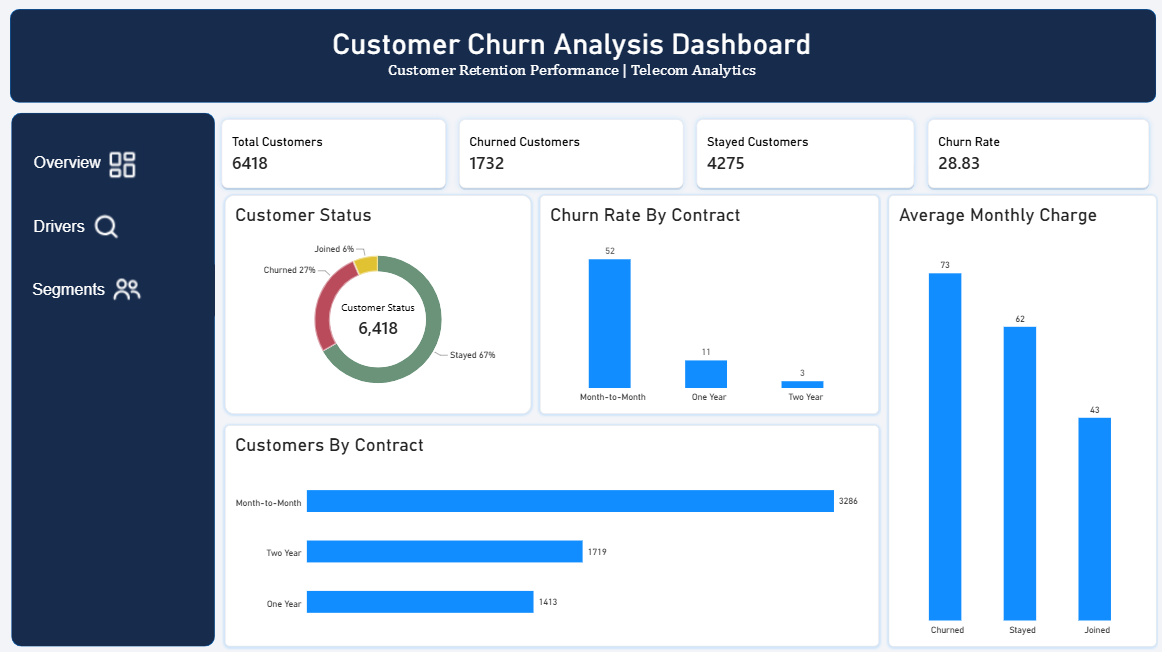

The dashboard page shown, as its layout file describes it:
{"tool":"powerbi","page":{"name":"Overview","canvas":[1920,1080],"ordinal":0},"visuals":[{"type":"cardVisual","fields":{"Data":["customer_churn.Total Customers"]},"box":[354,187.3,391.1,135.8],"z":0},{"type":"cardVisual","fields":{"Data":["customer_churn.Churned Customers"]},"box":[745.1,187.3,391.1,135.8],"z":1000},{"type":"cardVisual","fields":{"Data":["customer_churn.Stayed Customers"]},"box":[1136.2,187.3,380.8,135.8],"z":2000},{"type":"cardVisual","fields":{"Data":["customer_churn.Churn Rate"]},"box":[1517,187.3,387,135.8],"z":3000},{"type":"donutChart","title":"Customer Status","fields":{"Category":["customer_churn.Customer_Status"],"Y":["Count(customer_churn.Customer_ID)"]},"box":[370.5,323.2,504.3,360.2],"z":4000},{"type":"clusteredColumnChart","title":"Churn Rate By Contract","fields":{"Category":["customer_churn.Contract"],"Y":["customer_churn.Churn Rate"]},"box":[889.2,323.2,557.8,360.2],"z":5000},{"type":"clusteredBarChart","title":"Customers By Contract","fields":{"Category":["customer_churn.Contract"],"Y":["CountNonNull(customer_churn.Customer_ID)"]},"box":[370.5,701.9,1076.5,364.3],"z":6000},{"type":"clusteredColumnChart","title":"Average Monthly Charge","fields":{"Category":["customer_churn.Customer_Status"],"Y":["Avg(customer_churn.Monthly_Charge)"]},"box":[1463.5,323.2,440.5,743.1],"z":7000},{"type":"shape","box":[16.5,16.5,1887.5,154.4],"z":8000},{"type":"shape","box":[18.5,187.3,335.5,878.9],"z":9000},{"type":"textbox","box":[43.2,45.3,1796.9,100.9],"z":10000},{"type":"actionButton","box":[43.2,218.2,292.3,105],"z":11000},{"type":"actionButton","box":[41.2,434.3,312.9,90.6],"z":12000},{"type":"actionButton","box":[43.2,323.2,292.3,105],"z":13000}]}

Visuals, with their boxes in screenshot pixels (x1, y1, x2, y2), scaled from the page's 1920x1080 canvas onto the 1162x652 screenshot:
cardVisual - customer_churn.Total Customers: 214 113 451 195
cardVisual - customer_churn.Churned Customers: 451 113 688 195
cardVisual - customer_churn.Stayed Customers: 688 113 918 195
cardVisual - customer_churn.Churn Rate: 918 113 1152 195
"Customer Status" donutChart: 224 195 529 413
"Churn Rate By Contract" clusteredColumnChart: 538 195 876 413
"Customers By Contract" clusteredBarChart: 224 424 876 644
"Average Monthly Charge" clusteredColumnChart: 886 195 1152 644
shape: 10 10 1152 103
shape: 11 113 214 644
textbox: 26 27 1114 88
actionButton: 26 132 203 195
actionButton: 25 262 214 317
actionButton: 26 195 203 259
